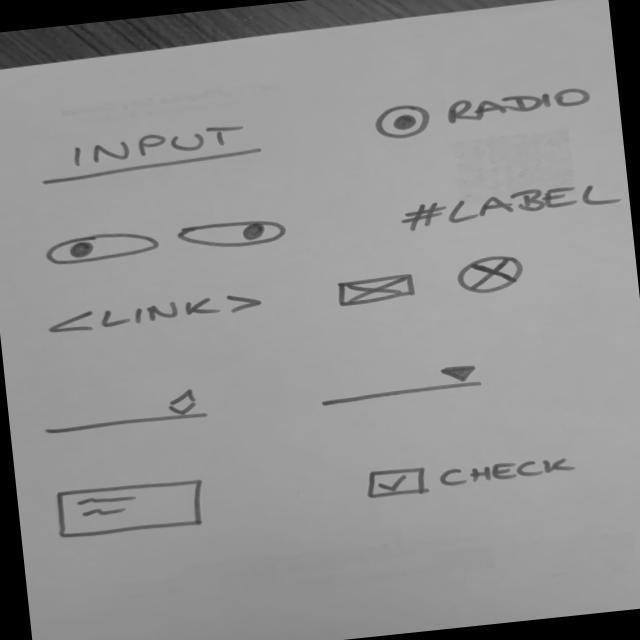checkbox: (357, 446, 585, 504)
image: (450, 251, 528, 298), (329, 271, 422, 310)
input: (34, 113, 268, 191)
label: (394, 177, 628, 236)
link: (43, 287, 272, 340)
number-input: (34, 385, 215, 439)
radio: (371, 81, 602, 146)
select: (312, 359, 488, 412)
textarea: (53, 473, 214, 545)
toggle: (171, 214, 293, 258), (44, 228, 164, 270)
